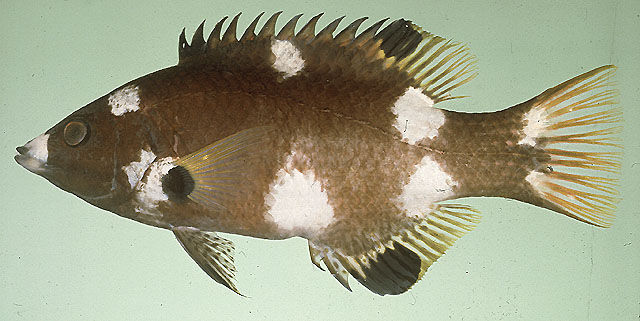fish: (15, 12, 624, 299)
